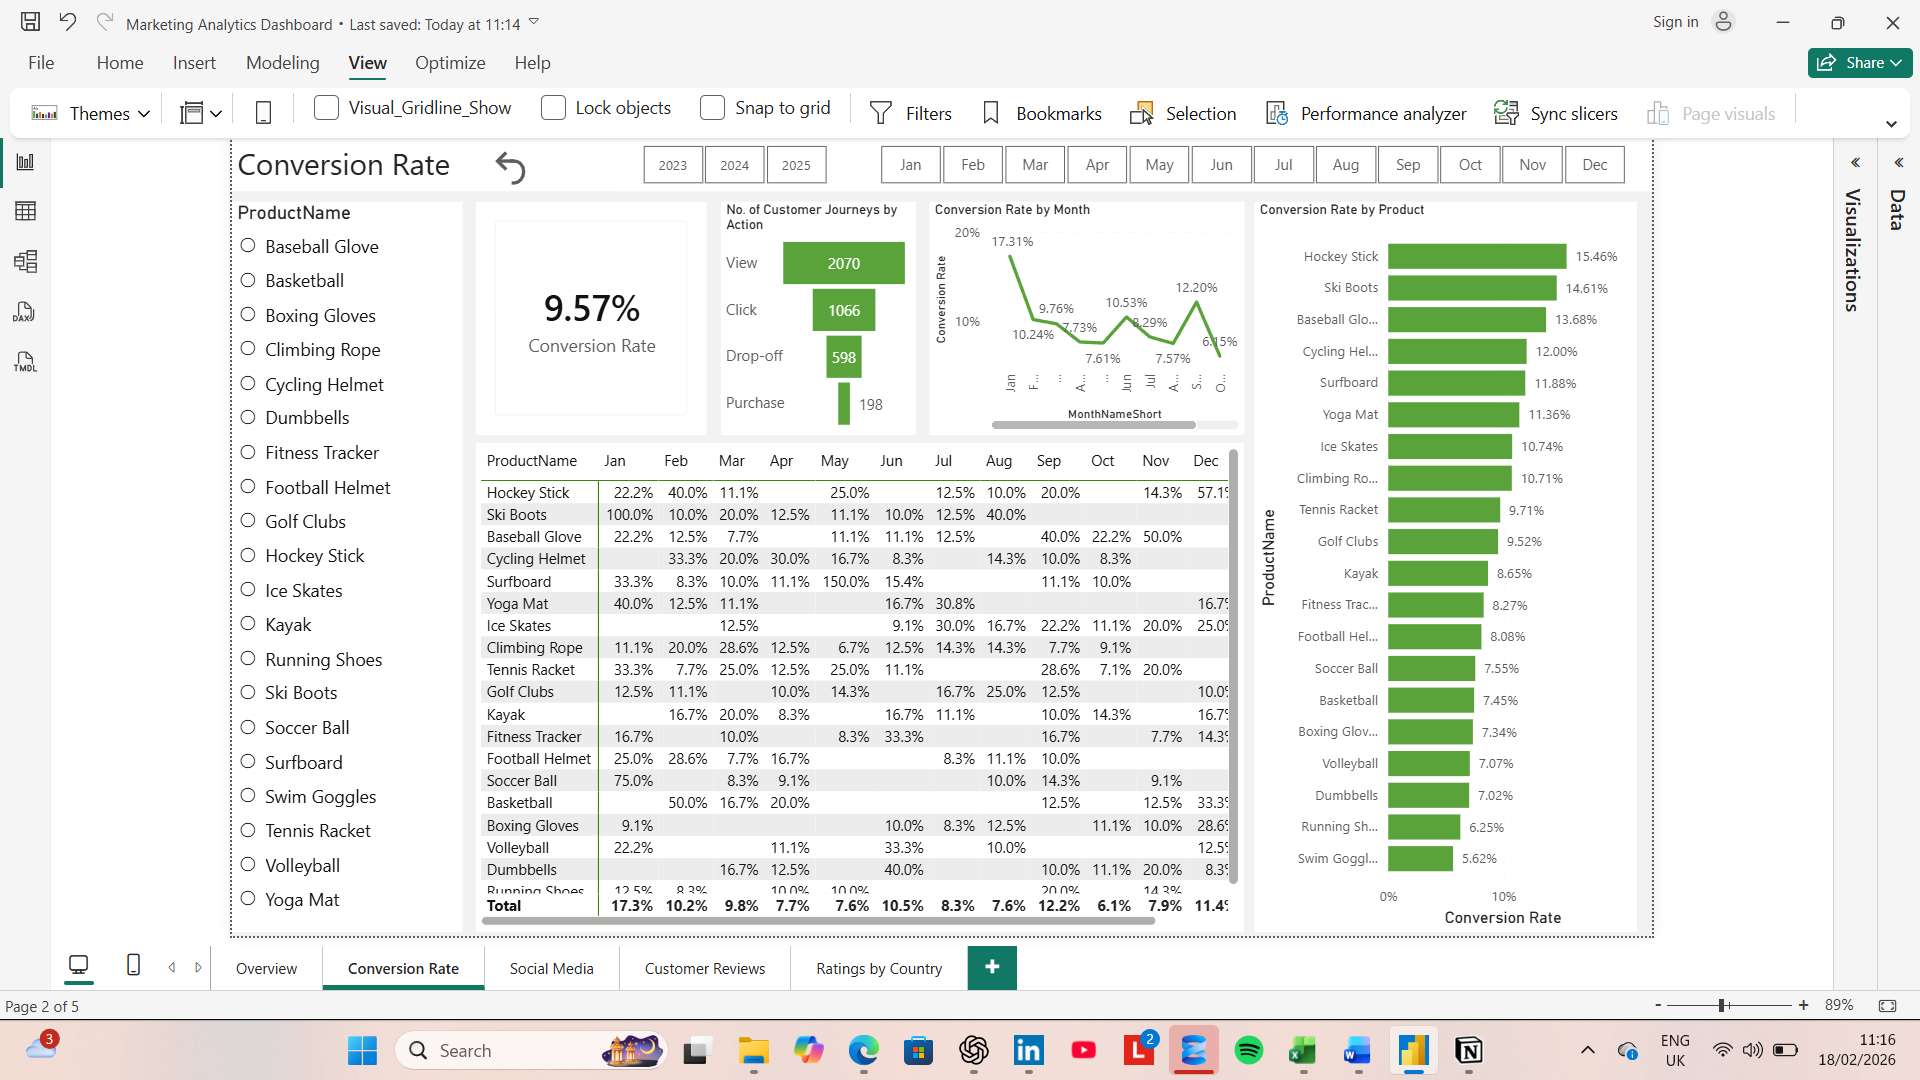

Layout of this report page (visuals, bound fields, positions):
{"tool":"powerbi","page":{"name":"Conversion Rate","canvas":[1280,720],"ordinal":1},"visuals":[{"type":"textbox","box":[0,0,1280,47.7],"z":0},{"type":"listSlicer","fields":{"Values":["dim_products.ProductName"]},"box":[0,57.7,207.7,658.8],"z":1000},{"type":"cardVisual","fields":{"Data":["_Calculations.Conversion Rate"]},"box":[220.3,57.5,208,210.5],"z":2000},{"type":"slicer","fields":{"Values":["Calendar.Year"]},"box":[344.6,0,214.9,48.1],"z":3000},{"type":"slicer","fields":{"Values":["Calendar.MonthNameShort"]},"box":[559.5,0,720.9,48.1],"z":4000},{"type":"lineChart","title":"Conversion Rate by Month","fields":{"Y":["_Calculations.Conversion Rate"],"Category":["Calendar.MonthNameShort"]},"box":[629,57.5,283.9,210.5],"z":5000},{"type":"barChart","title":"Conversion Rate by Product","fields":{"Category":["dim_products.ProductName"],"Y":["_Calculations.Conversion Rate"]},"box":[921.4,57.5,345.1,658.3],"z":6000},{"type":"pivotTable","fields":{"Values":["_Calculations.Conversion Rate"],"Rows":["dim_products.ProductName"],"Columns":["Calendar.MonthNameShort"]},"box":[220.3,275.3,692.6,440.5],"z":7000},{"type":"funnel","title":"No. of Customer Journeys by Action","fields":{"Category":["fact_customer_journey.Action"],"Y":["_Calculations.Number of Customer Journeys"]},"box":[440.5,57.5,176.2,210.5],"z":8000}]}

Visuals, with their boxes on the page's 1280x720 design canvas (x1, y1, x2, y2). These are canvas units, not pixel positions in the 1920x1080 screenshot, which may show the page scaled, cropped or inside an application window:
textbox: (x1=0, y1=0, x2=1280, y2=48)
listSlicer - dim_products.ProductName: (x1=0, y1=58, x2=208, y2=716)
cardVisual - _Calculations.Conversion Rate: (x1=220, y1=58, x2=428, y2=268)
slicer - Calendar.Year: (x1=345, y1=0, x2=560, y2=48)
slicer - Calendar.MonthNameShort: (x1=560, y1=0, x2=1280, y2=48)
"Conversion Rate by Month" lineChart: (x1=629, y1=58, x2=913, y2=268)
"Conversion Rate by Product" barChart: (x1=921, y1=58, x2=1266, y2=716)
pivotTable - _Calculations.Conversion Rate x dim_products.ProductName: (x1=220, y1=275, x2=913, y2=716)
"No. of Customer Journeys by Action" funnel: (x1=440, y1=58, x2=617, y2=268)
